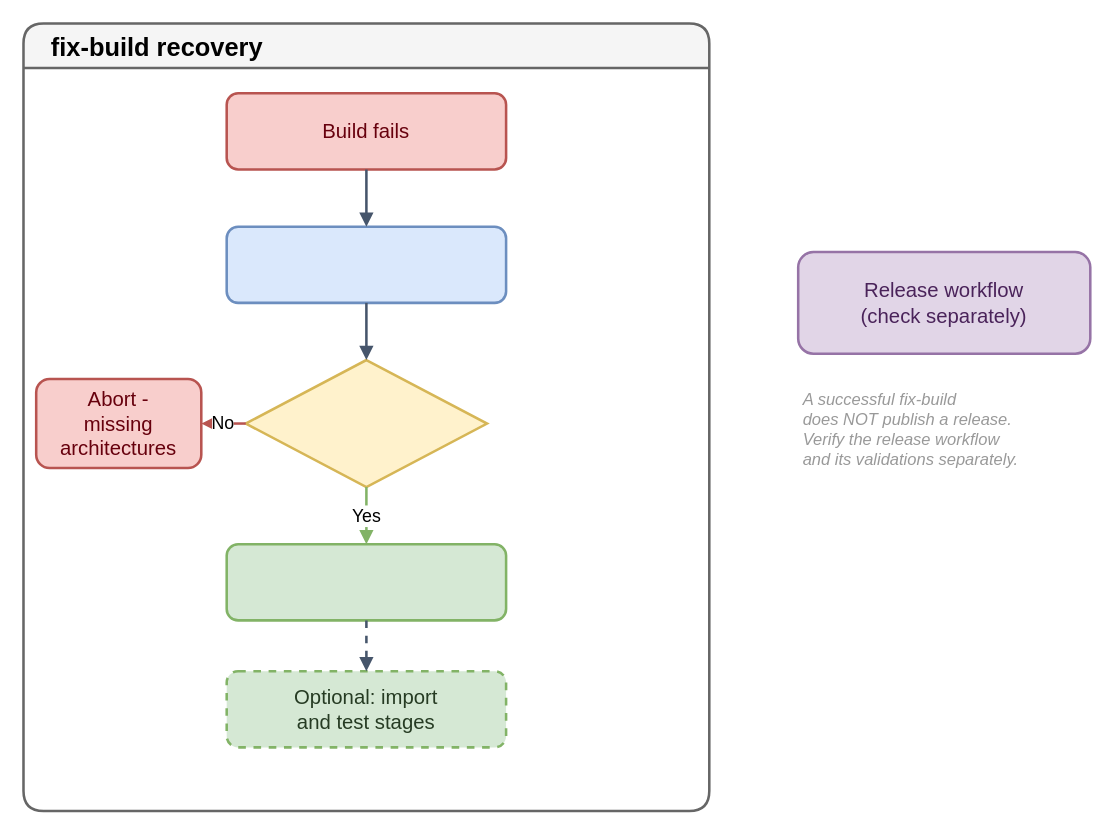
This 1113x833 diagram has some shape labels left out. The shapes that lost their labels are listed below. From the top down, each one's centre as x and y in pixels, then its label:
(x=366, y=264): fix-build fetches existing build
(x=366, y=423): All requested architectures present?
(x=366, y=581): Run signing and verification
